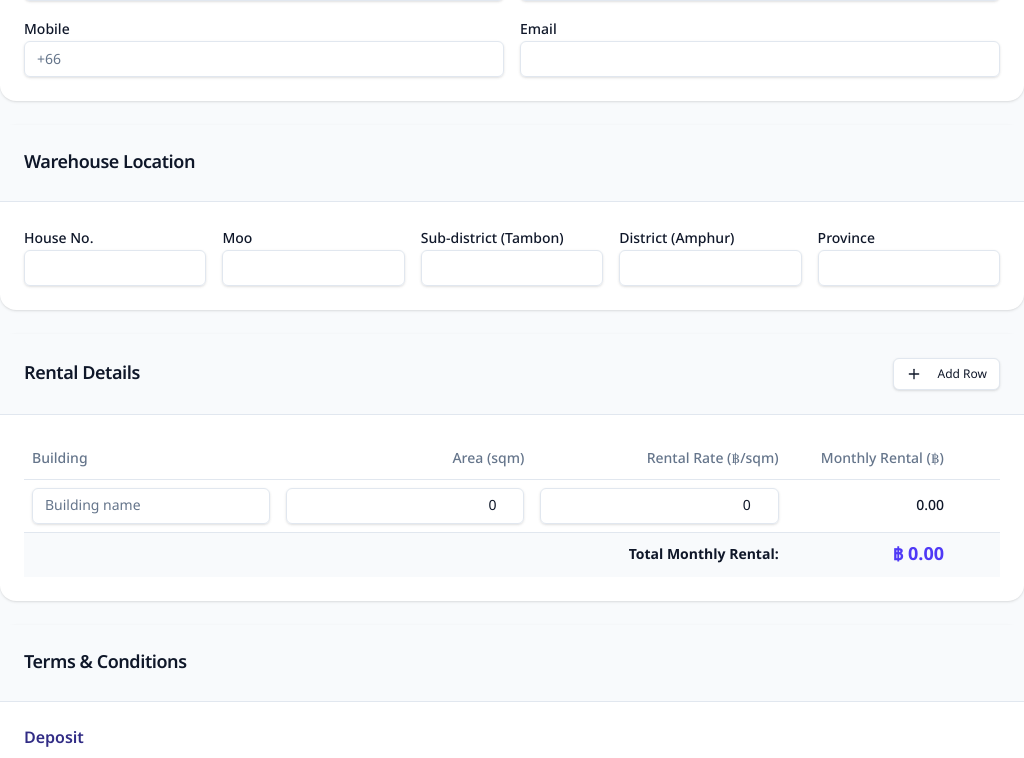
Test: FormSaleCommercialProposalPage › adds a new rental row when Add Row button clicked
(page scrolled)
Click the button "Add Row": click(946, 374) [892, 358, 1000, 390]
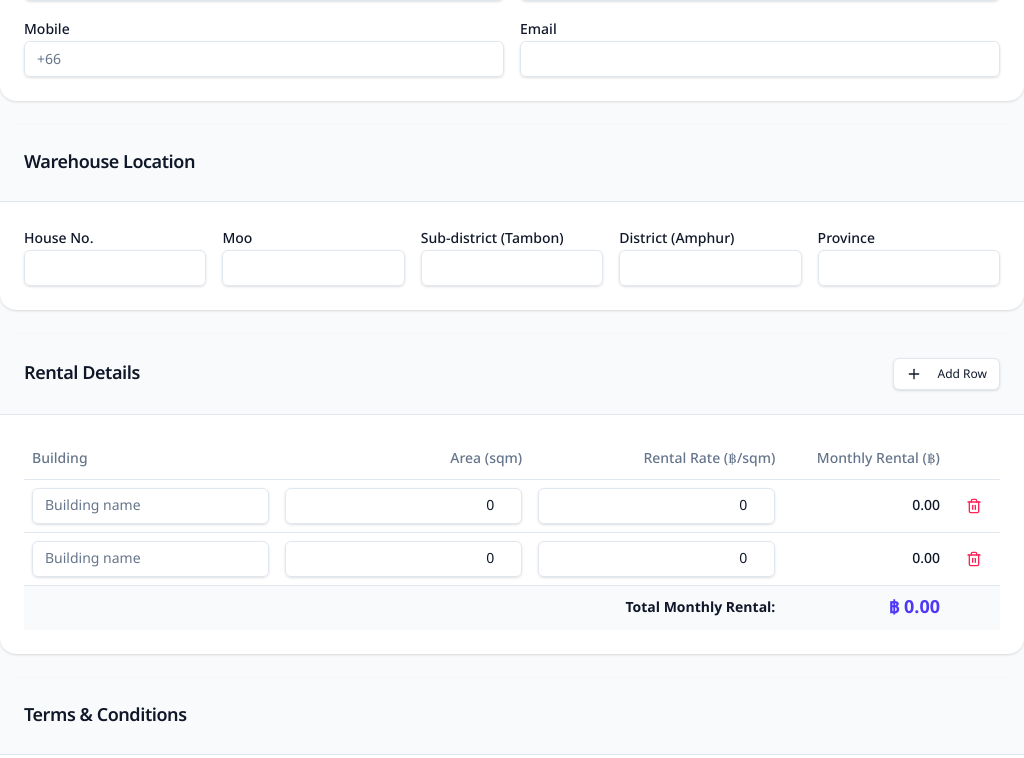
expect the number of fields with placeholder "Building name" is 2: met, box [32, 488, 269, 524]; [32, 540, 269, 576]
